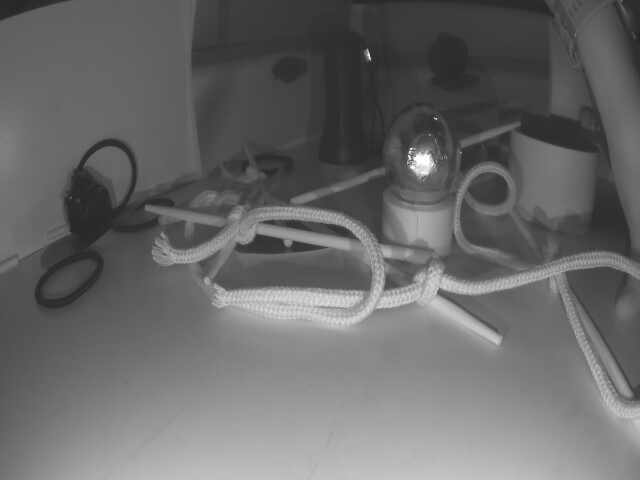Dead: (64, 175, 112, 232)
Live: (384, 103, 461, 201)
